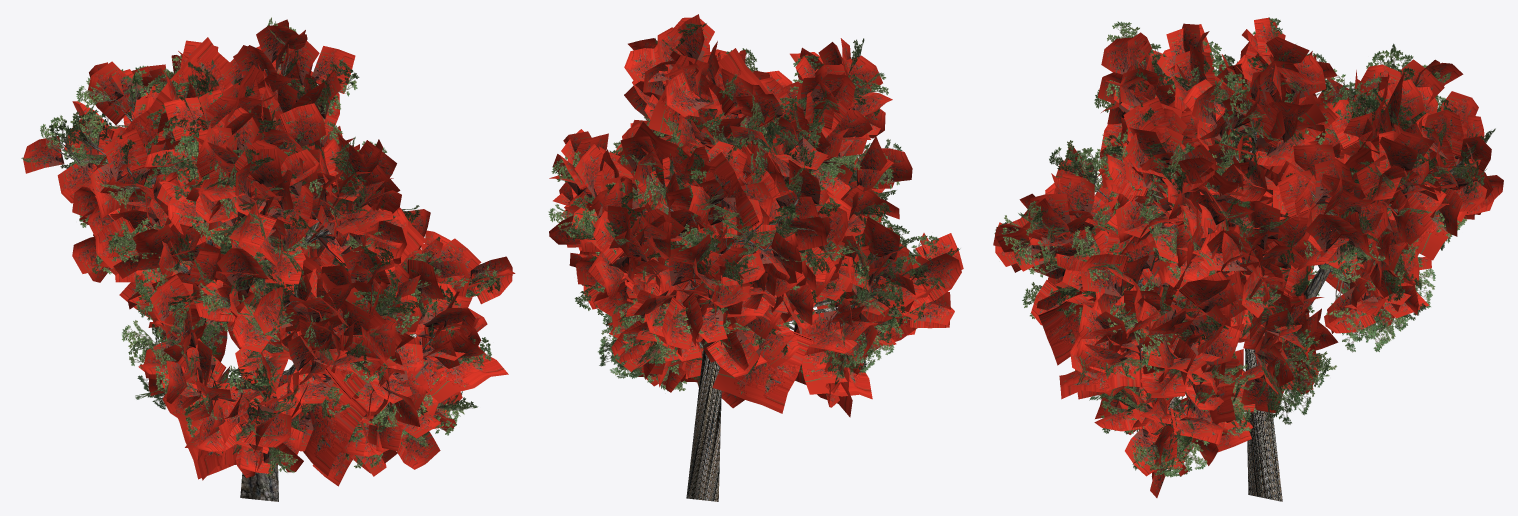
File: poinciana_c.glb
3 views of the same model, side by side, from view 1: azimuth 30°, elevation 25°; view 2: azimuth 150°, elevation 25°; view 3: azimuth 270°, elevation 25° (orthographic).
Parts seen in each view (by area): view 1: 13_1_w; view 2: 13_1_w; view 3: 13_1_w.
Boxes of the visible parts, x1=… form: 13_1_w: x1=21, y1=17, x2=515, y2=501; 13_1_w: x1=548, y1=14, x2=963, y2=501; 13_1_w: x1=993, y1=17, x2=1503, y2=501.
Size of the model in its own units: 7.35 by 8.96 by 8.56.
Materials: 6 (6 with a texture image).
